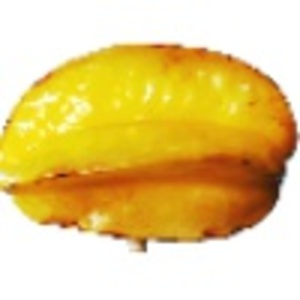carambola: (1, 40, 300, 256)
